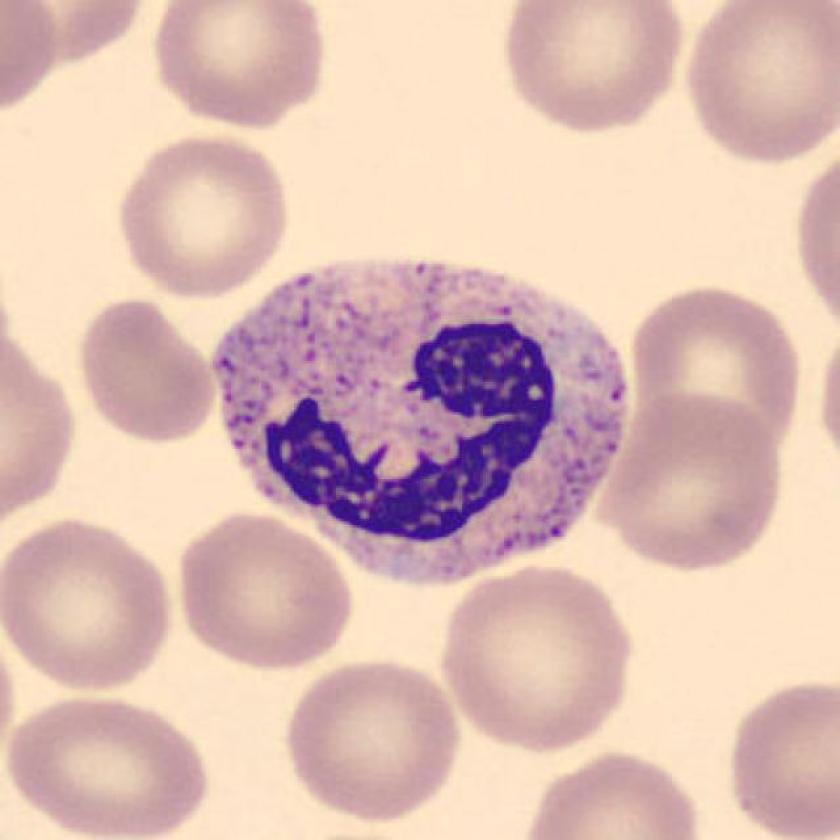neutrophil: (216, 257, 630, 585)
